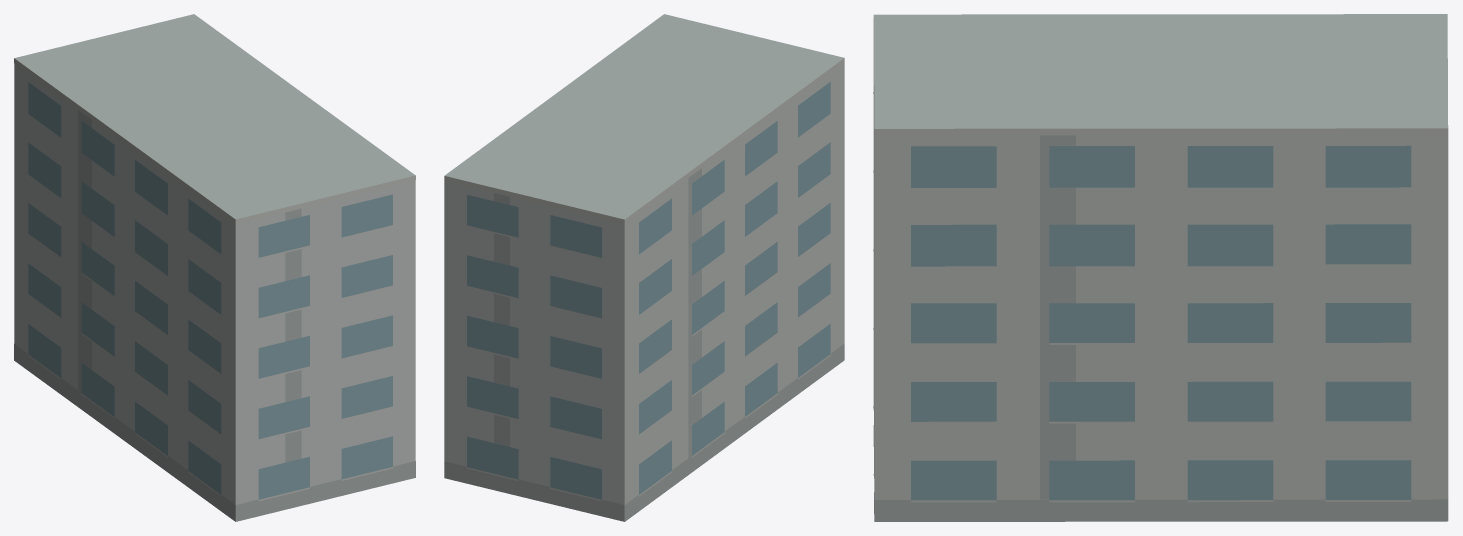
The model's file is survey-upis-32626540.glb.
3 views of the same model, side by side, from view 1: azimuth 30°, elevation 25°; view 2: azimuth 150°, elevation 25°; view 3: azimuth 270°, elevation 25° (orthographic). The views are drawn at different scales.
Parts seen in each view (by area): view 1: survey-upis-32626540.tmp; view 2: survey-upis-32626540.tmp; view 3: survey-upis-32626540.tmp.
Boxes of the visible parts, x1=… form: survey-upis-32626540.tmp: x1=14, y1=14, x2=415, y2=521; survey-upis-32626540.tmp: x1=444, y1=14, x2=844, y2=521; survey-upis-32626540.tmp: x1=873, y1=14, x2=1448, y2=521.
Bounding box in the file's own units: 9.11 × 14.5 × 19.23.
